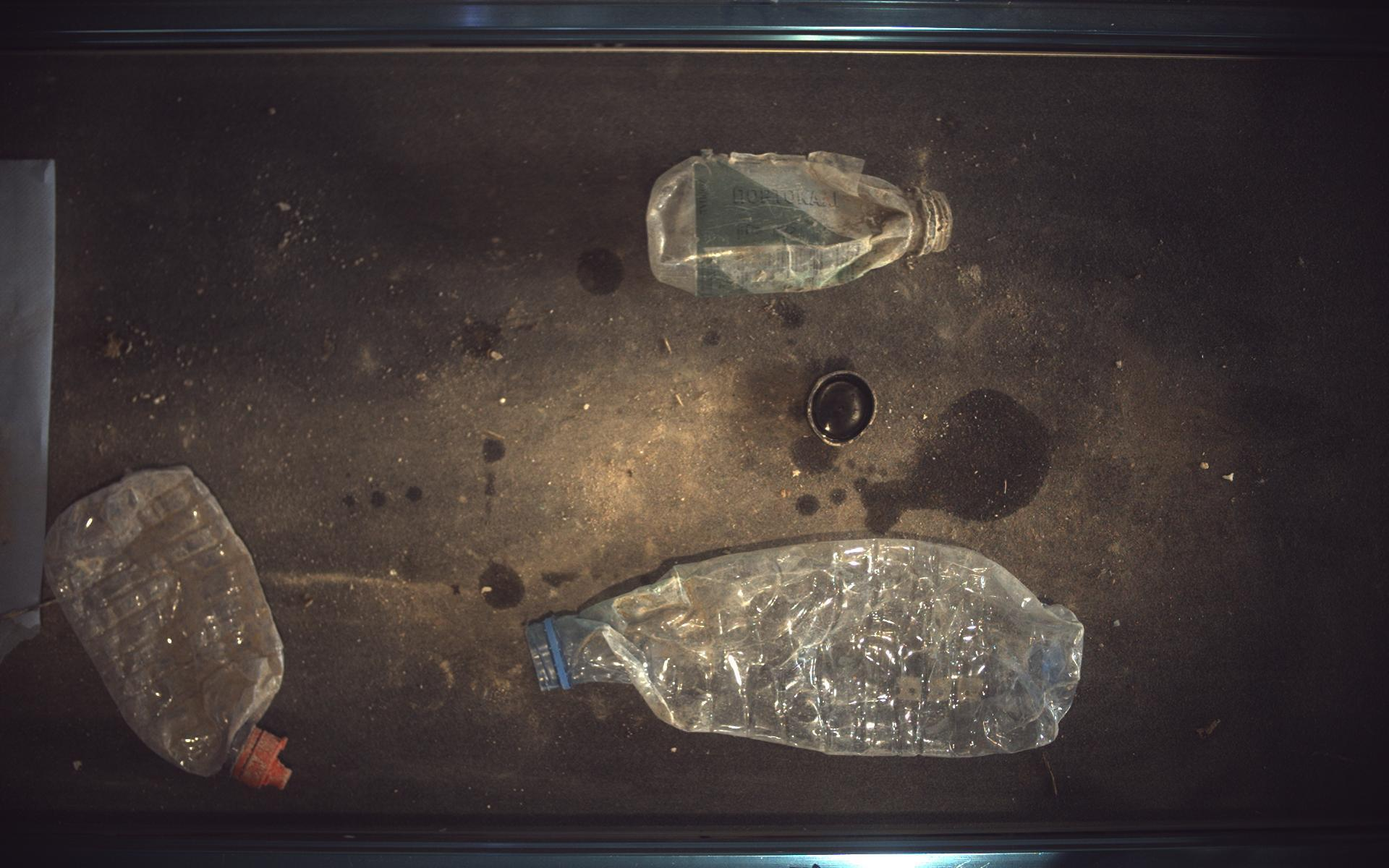general_w: (647, 148, 954, 296), (808, 370, 878, 446)
